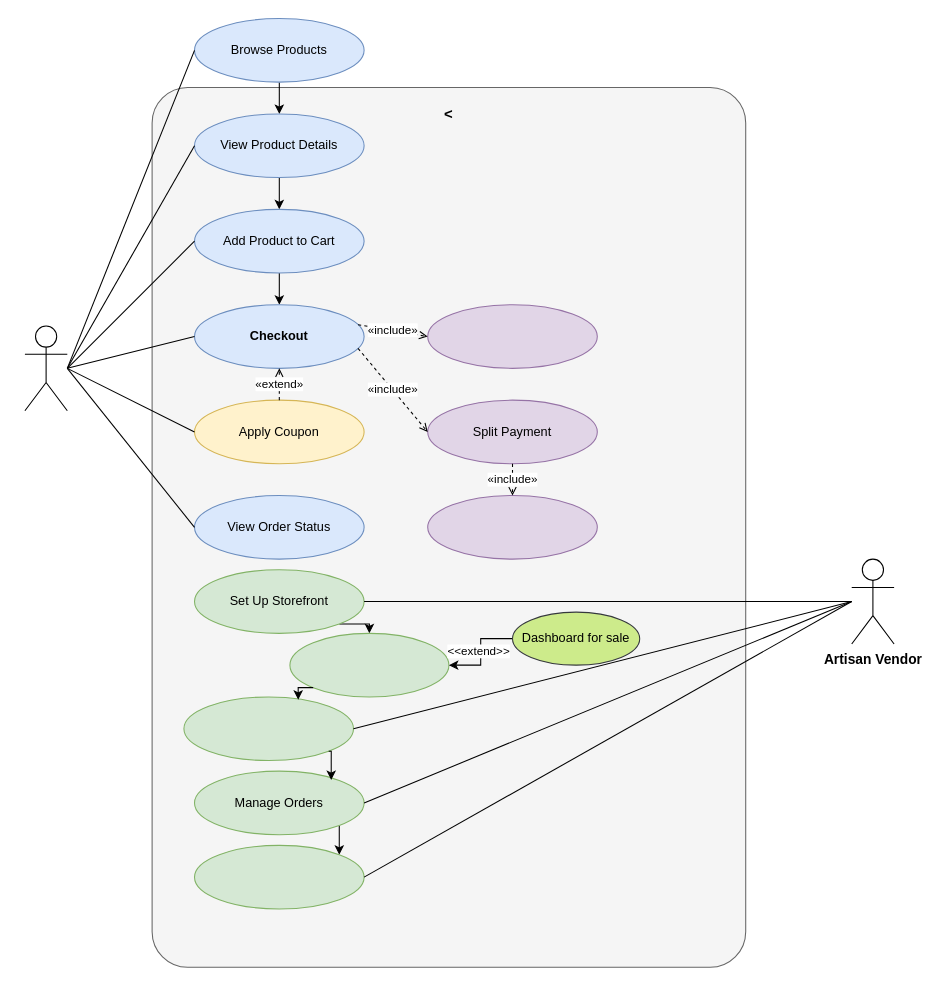
This 940x986 diagram has some shape labels left out. Here are the shapes that lost their labels. From the top down, the centre of each, then its label:
At (512,336): "Make Payment".
At (45,368): "Shopper".
At (512,526): "Calculate Fee".
At (369,664): "View Sales".
At (268,728): "Manage Product Catalog".
At (278,876): "Receive Split Payout".
